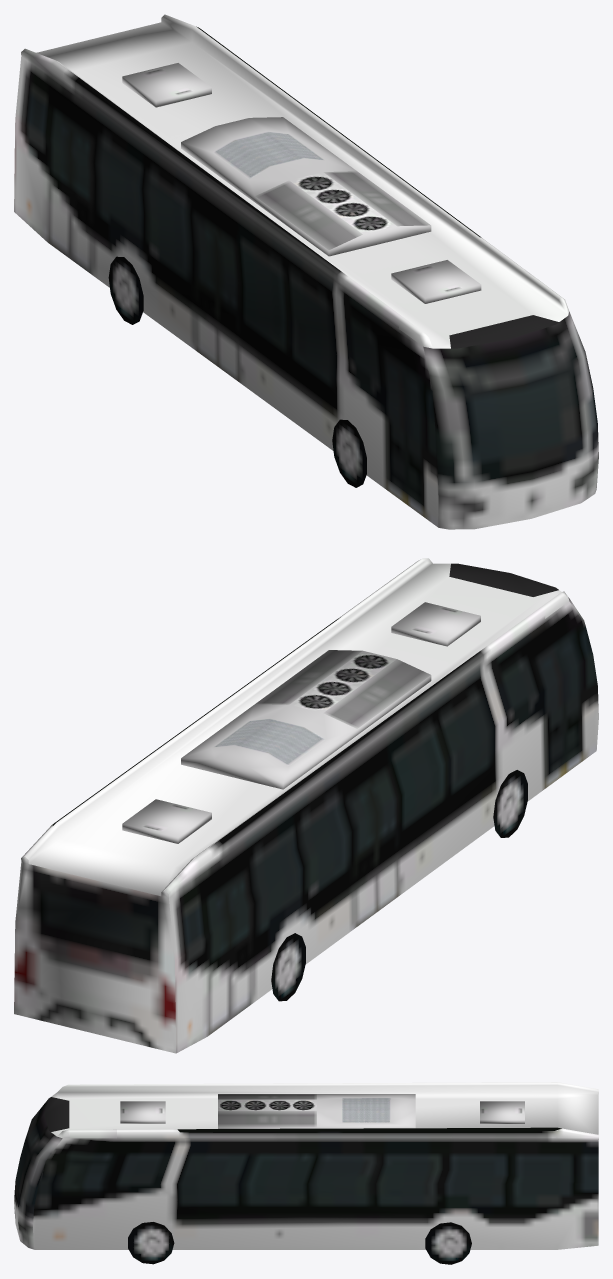
Rendered from bus_lod.glb.
3 views of the same model, one above another, from view 1: azimuth 30°, elevation 25°; view 2: azimuth 150°, elevation 25°; view 3: azimuth 270°, elevation 25° (orthographic). The views are drawn at different scales.
Parts seen in each view (by area): view 1: busscar_LOD; view 2: busscar_LOD; view 3: busscar_LOD.
Part boxes in pixels (bbox=[...]): busscar_LOD: bbox=[14, 14, 598, 529]; busscar_LOD: bbox=[14, 558, 598, 1053]; busscar_LOD: bbox=[14, 1082, 598, 1264].
Bounding box in the file's own units: 2.64 × 3.07 × 12.23.
Materials: 1 (1 with a texture image).
